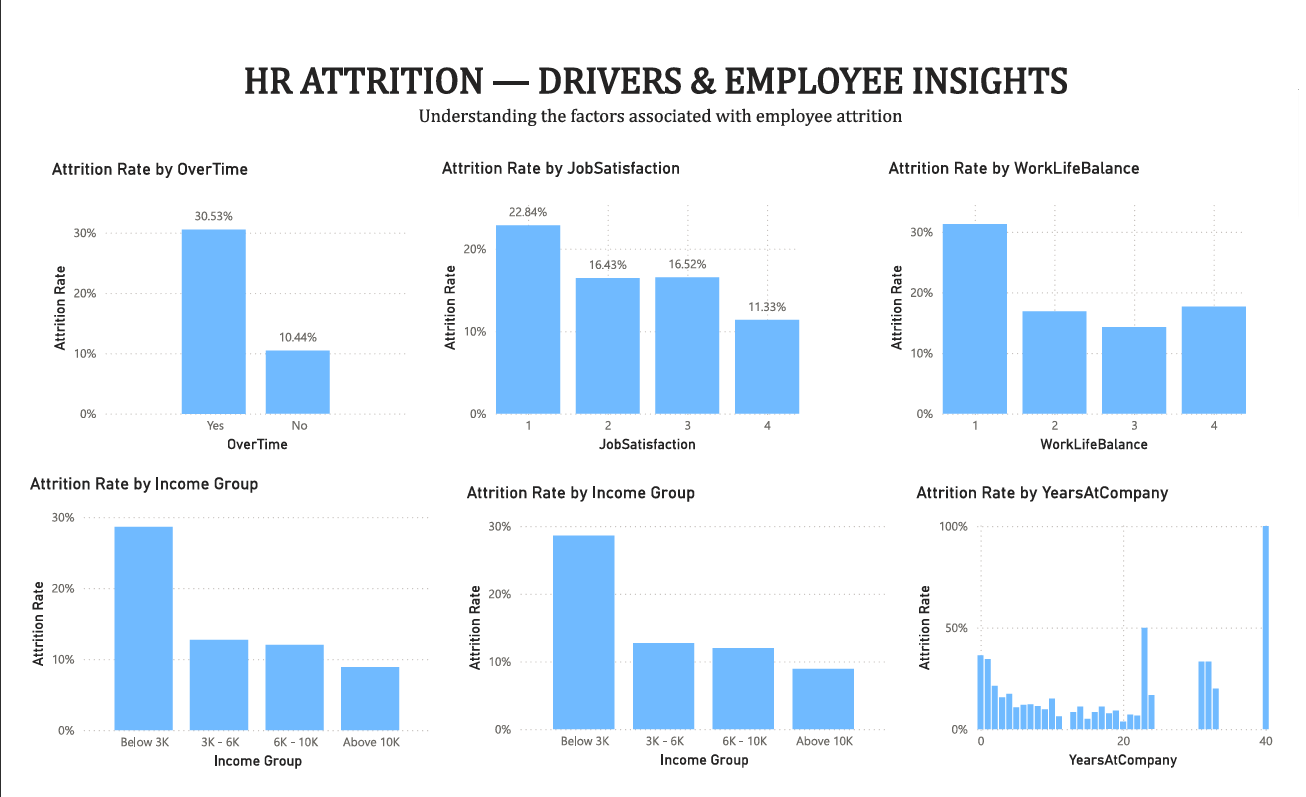

The page's visual inventory and layout, read from the dashboard file:
{"tool":"powerbi","page":{"name":"Page 2","canvas":[1280,720],"ordinal":1},"visuals":[{"type":"textbox","box":[215.4,0,848,85.1],"z":0},{"type":"clusteredColumnChart","fields":{"Category":["HR.OverTime"],"Y":["HR.Attrition Rate"]},"box":[22,102.9,369.1,300.5],"z":1},{"type":"clusteredColumnChart","fields":{"Category":["HR.JobSatisfaction"],"Y":["HR.Attrition Rate"]},"box":[414.4,101.5,369,301],"z":2},{"type":"clusteredColumnChart","fields":{"Category":["HR.WorkLifeBalance"],"Y":["HR.Attrition Rate"]},"box":[863.1,101.5,369,301],"z":3},{"type":"clusteredColumnChart","fields":{"Category":["HR.Income Group"],"Y":["HR.Attrition Rate"]},"box":[0,418.5,414.1,302.7],"z":4},{"type":"clusteredColumnChart","fields":{"Y":["HR.Attrition Rate"],"Category":["HR.Income Group"]},"box":[439.1,428.1,433.9,292.3],"z":5},{"type":"clusteredColumnChart","fields":{"Category":["HR.YearsAtCompany"],"Y":["HR.Attrition Rate"]},"box":[890.6,428.1,369,292],"z":6}]}

Visuals, with their boxes on the page's 1280x720 design canvas (x1, y1, x2, y2). These are canvas units, not pixel positions in the 1306x797 screenshot, which may show the page scaled, cropped or inside an application window:
textbox: locate(215, 0, 1063, 85)
clusteredColumnChart - HR.OverTime x HR.Attrition Rate: locate(22, 103, 391, 403)
clusteredColumnChart - HR.JobSatisfaction x HR.Attrition Rate: locate(414, 102, 783, 402)
clusteredColumnChart - HR.WorkLifeBalance x HR.Attrition Rate: locate(863, 102, 1232, 402)
clusteredColumnChart - HR.Income Group x HR.Attrition Rate: locate(0, 418, 414, 721)
clusteredColumnChart - HR.Attrition Rate x HR.Income Group: locate(439, 428, 873, 720)
clusteredColumnChart - HR.YearsAtCompany x HR.Attrition Rate: locate(891, 428, 1260, 720)
